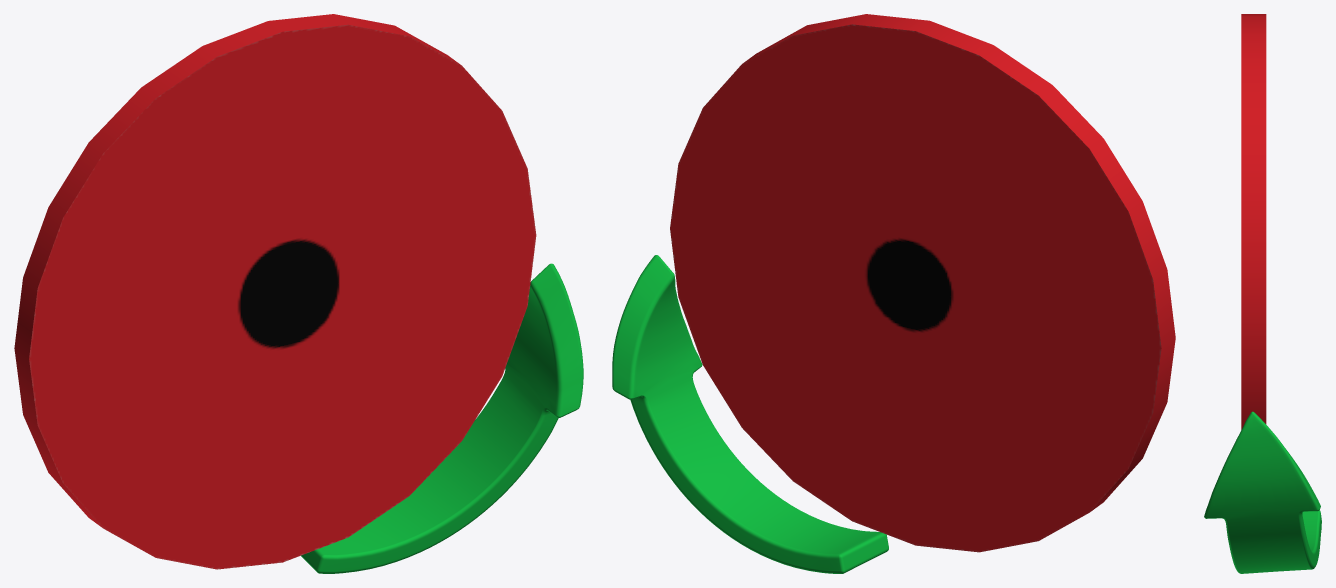
File: plate_red.glb
3 views of the same model, side by side, from view 1: azimuth 30°, elevation 25°; view 2: azimuth 150°, elevation 25°; view 3: azimuth 270°, elevation 25° (orthographic). The views are drawn at different scales.
Visible parts, largest first — view 1: node_id38, node_id74; view 2: node_id38, node_id74; view 3: node_id74, node_id38.
Part boxes in pixels (<box>): node_id38: <box>14,14,536,569</box>; node_id74: <box>301,263,583,573</box>; node_id38: <box>670,14,1175,552</box>; node_id74: <box>612,255,888,573</box>; node_id74: <box>1204,411,1321,573</box>; node_id38: <box>1241,14,1266,429</box>.
Size of the model in its own units: 0.5487 by 0.5417 by 0.1203.
Materials: 2 (2 with a texture image).
